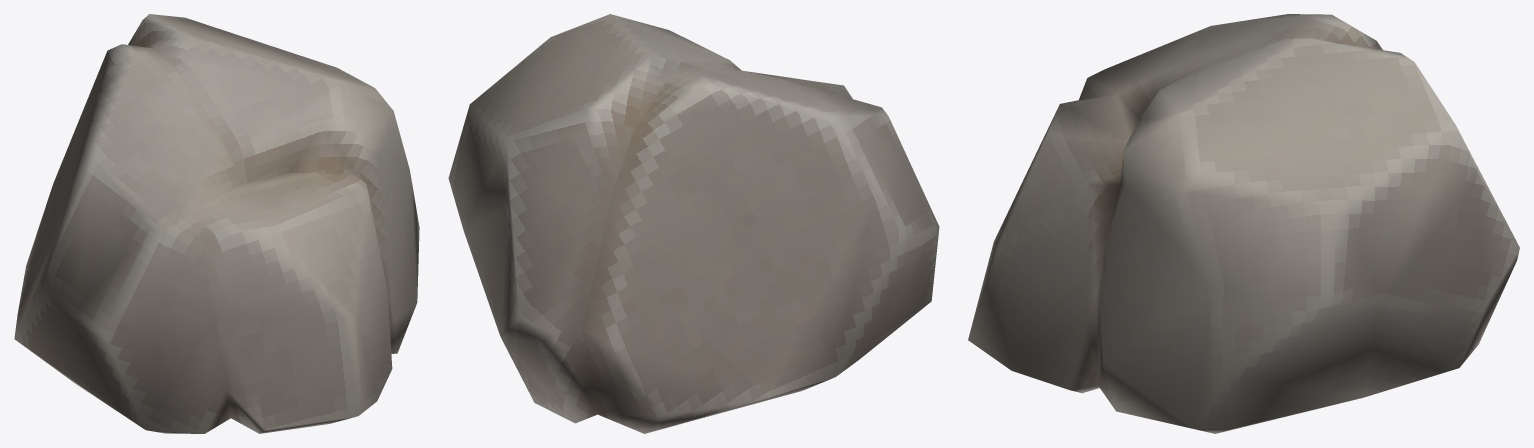
The model's file is pedra_01.glb.
The picture shows the model from 3 angles, left to right: view 1: azimuth 30°, elevation 25°; view 2: azimuth 150°, elevation 25°; view 3: azimuth 270°, elevation 25°; orthographic projection. The views are drawn at different scales.
Parts seen in each view (by area): view 1: SM_Rocks_01; view 2: SM_Rocks_01; view 3: SM_Rocks_01.
Boxes of the visible parts, x1,y1,x2,y2 form: SM_Rocks_01: [14, 14, 419, 433]; SM_Rocks_01: [448, 14, 939, 433]; SM_Rocks_01: [968, 14, 1519, 433].
Size of the model in its own units: 0.4527 by 0.3245 by 0.5157.
1 material, 1 textured.
